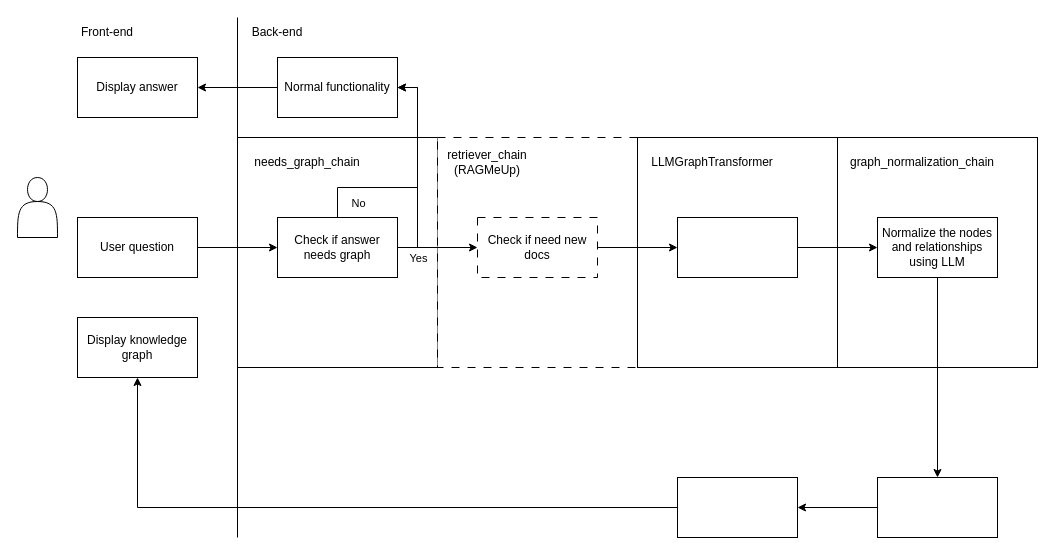
Some shapes in this 1055 by 556 pixel diagram are drawn without their labels. Each missing label, with the box of its shape:
Build knowledge graph based on context: (676, 216, 798, 278)
Save visualization to file: (676, 476, 798, 538)
Visualize knowledge graph: (876, 476, 998, 538)
